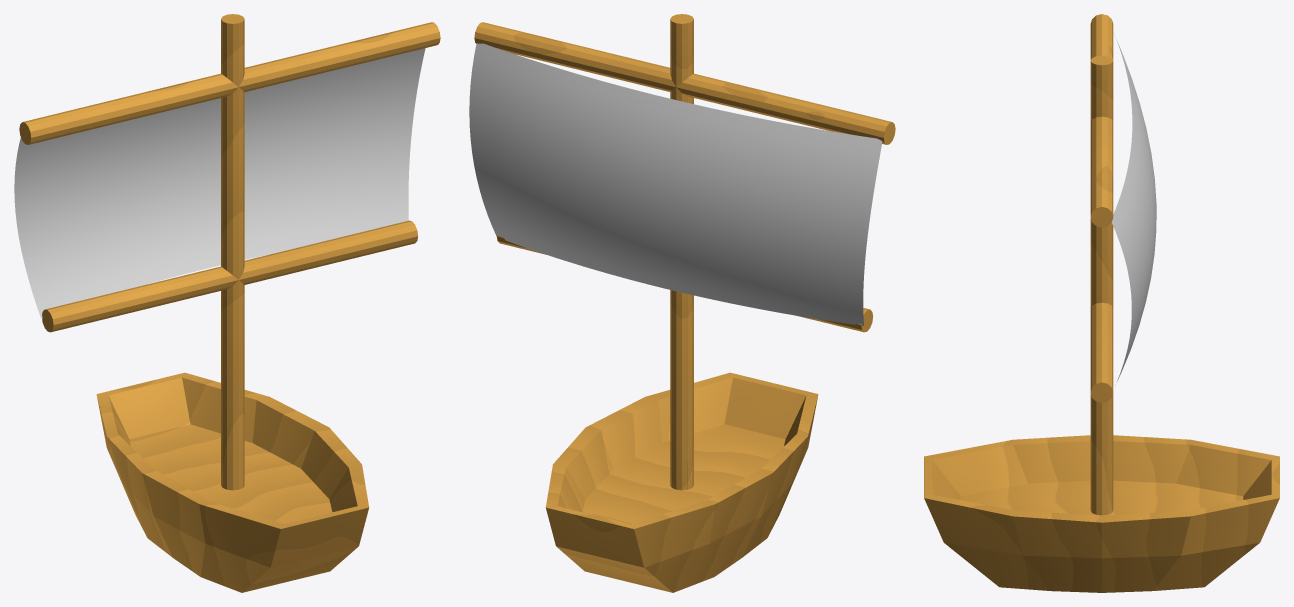
The model's file is boat.fbx.
3 views of the same model, side by side, from view 1: azimuth 30°, elevation 25°; view 2: azimuth 150°, elevation 25°; view 3: azimuth 270°, elevation 25° (orthographic). The views are drawn at different scales.
Visible parts, largest first — view 1: Cylinder; view 2: Cylinder; view 3: Cylinder.
Boxes of the visible parts, x1,y1,x2,y2 form: Cylinder: [14, 14, 440, 592]; Cylinder: [469, 14, 895, 592]; Cylinder: [924, 14, 1279, 592].
Bounding box in the file's own units: 927 × 1134 × 723.
